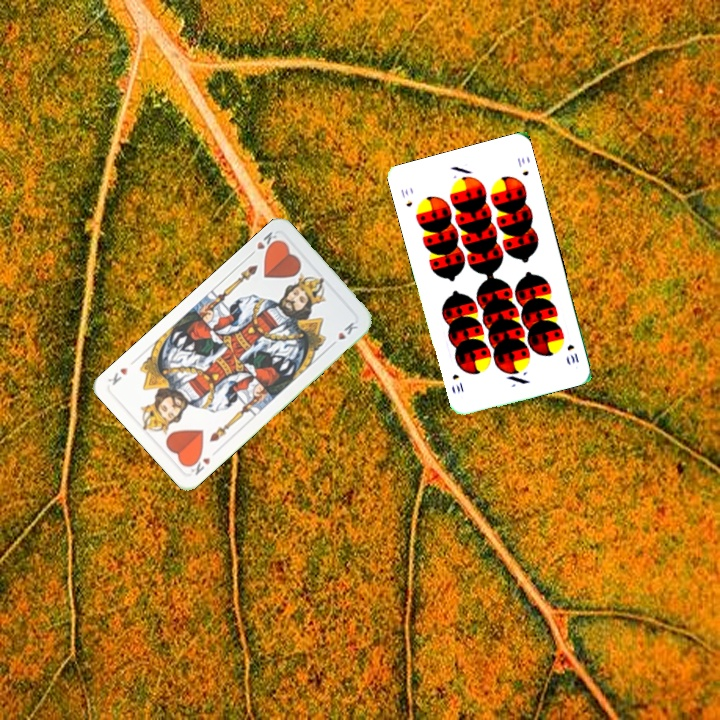HK: (245, 228, 282, 259), (184, 450, 213, 478)
S10: (563, 340, 581, 366), (397, 185, 415, 209)
